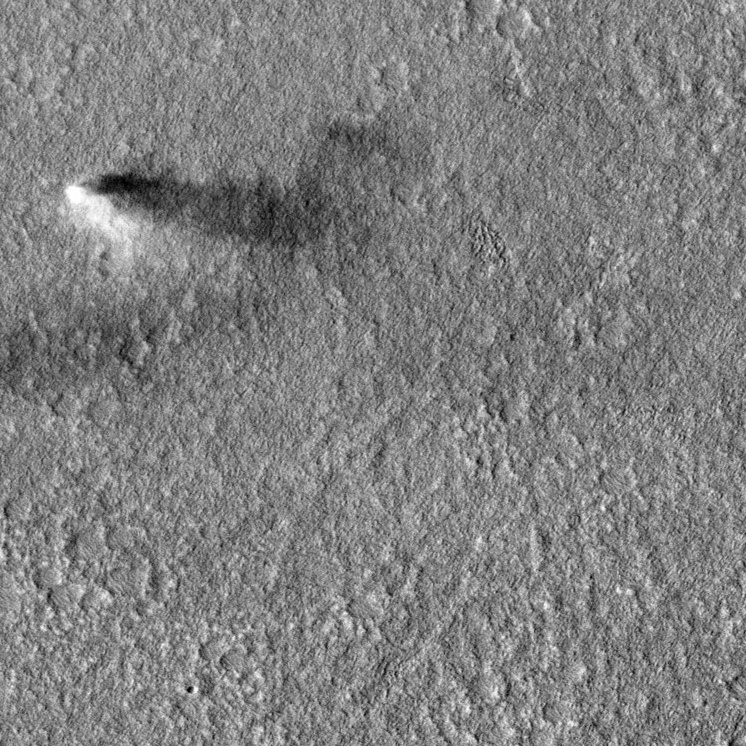dust_devil: (58, 167, 333, 253)
